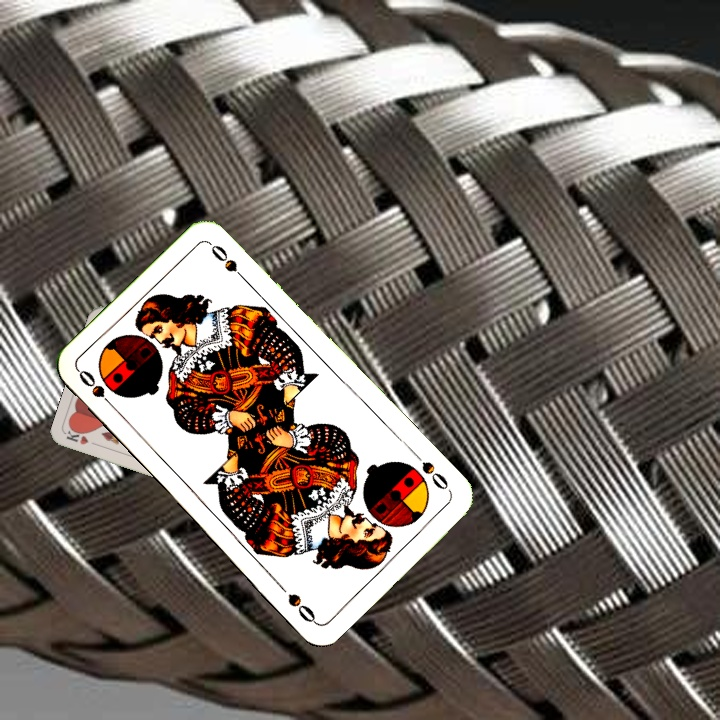HK: (63, 425, 103, 449)
SO: (74, 365, 120, 414), (417, 457, 454, 495)
